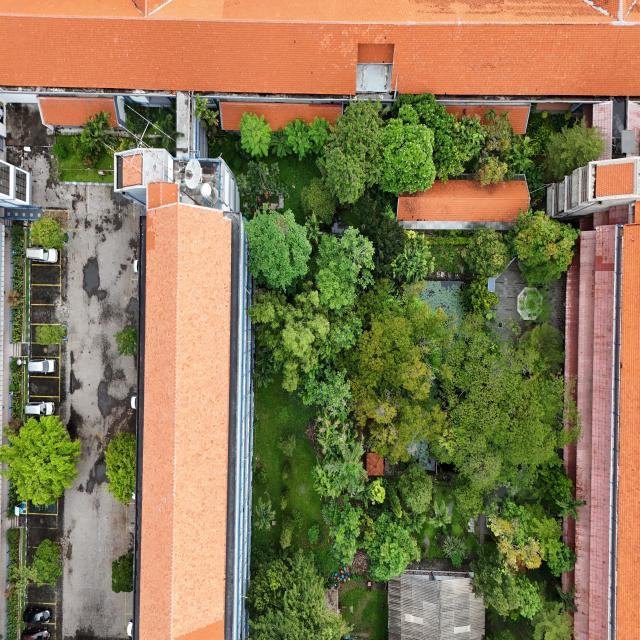Tree: (3, 408, 84, 512), (246, 203, 315, 294), (102, 426, 144, 502), (463, 225, 508, 278), (30, 526, 68, 588), (28, 202, 62, 262), (241, 106, 272, 163), (246, 492, 284, 537), (477, 152, 507, 188), (364, 472, 389, 512), (428, 498, 453, 533), (306, 518, 322, 548)
